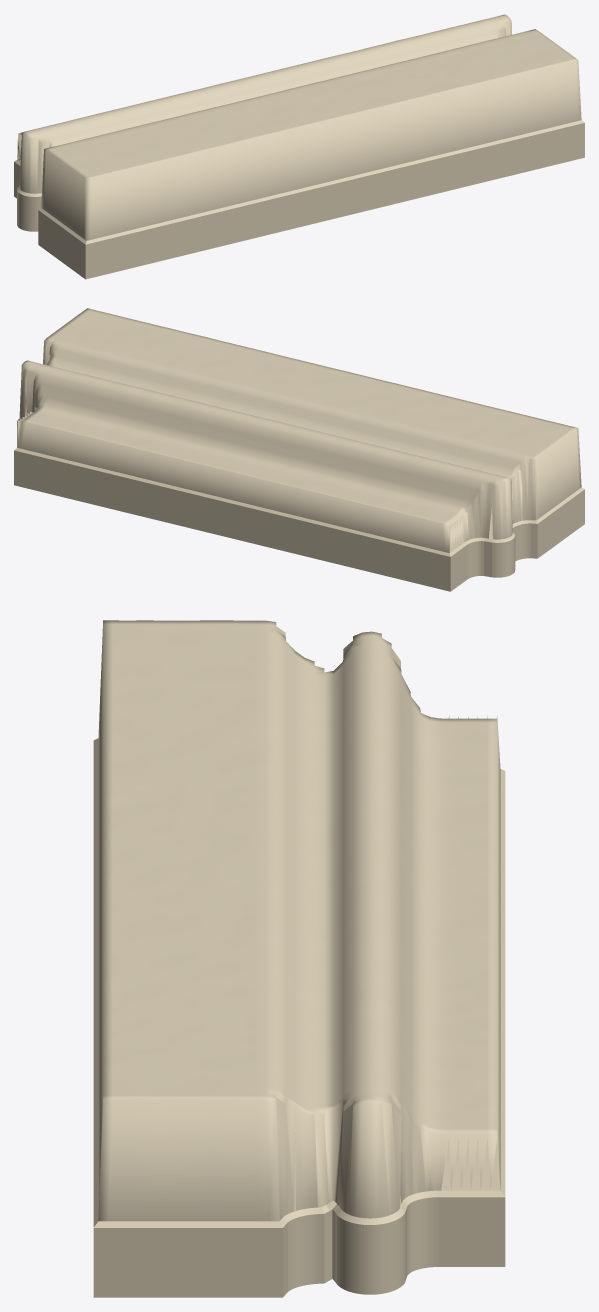
The model's file is mahsulot.glb.
3 views of the same model, one above another, from view 1: azimuth 30°, elevation 25°; view 2: azimuth 150°, elevation 25°; view 3: azimuth 270°, elevation 25° (orthographic). The views are drawn at different scales.
Visible parts, largest first — view 1: mahsulot; view 2: mahsulot; view 3: mahsulot.
Boxes of the visible parts, left/top/right/bottom form: mahsulot: left=14, top=14, right=584, bottom=279; mahsulot: left=14, top=308, right=584, bottom=591; mahsulot: left=93, top=620, right=505, bottom=1297.
Bounding box in the file's own units: 0.35 × 0.0649 × 0.125.
